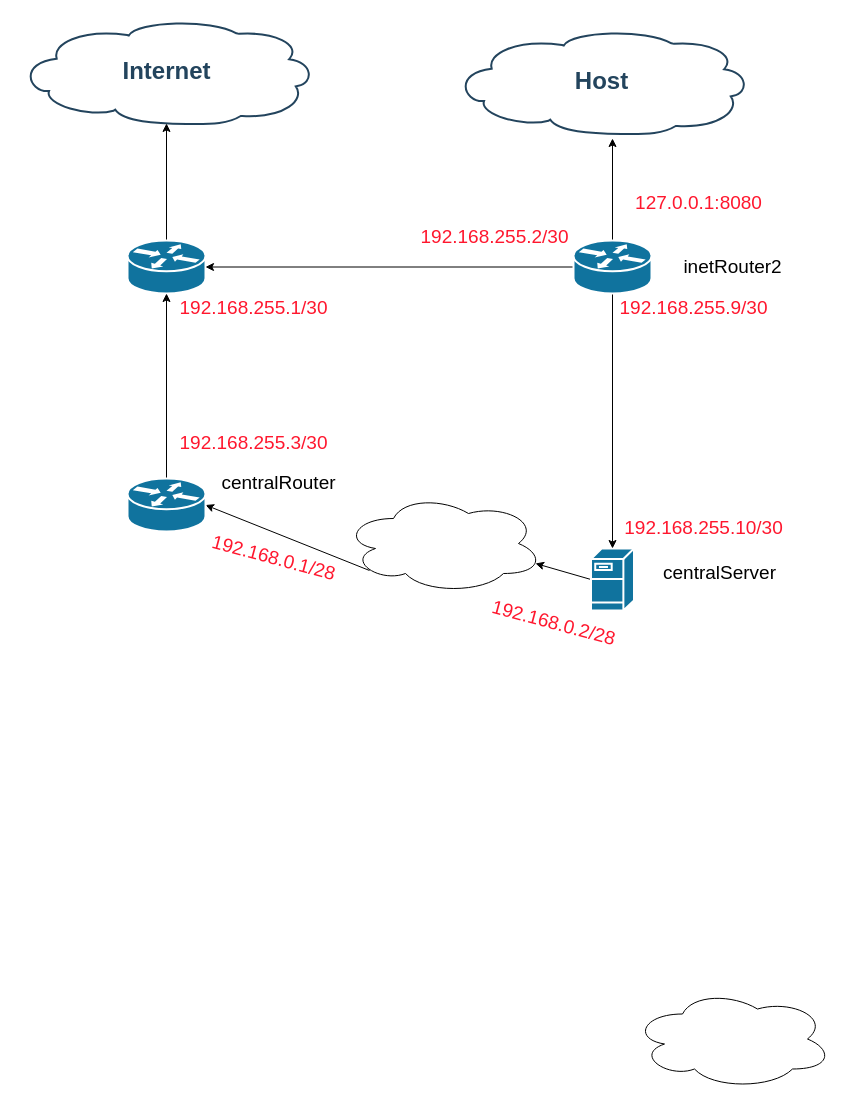
Some shapes in this 850 by 1106 pixel diagram are drawn without their labels. Here are the shapes that lost their labels. From the top down, the box of each, then its label:
(342, 492, 544, 594): Directors 192.168.0.0/28
(632, 988, 832, 1089): Office hardware 192.168.1.192/26
